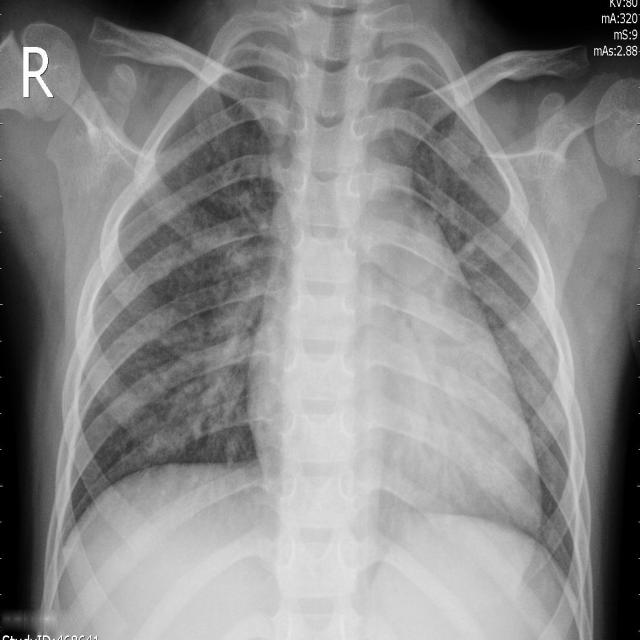low-pneumonia: (150, 209, 285, 469)
